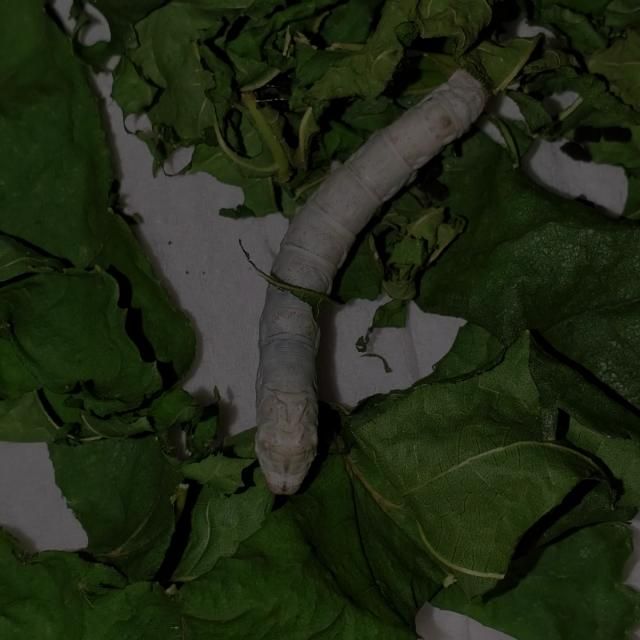Healthy: (211, 52, 518, 514)
